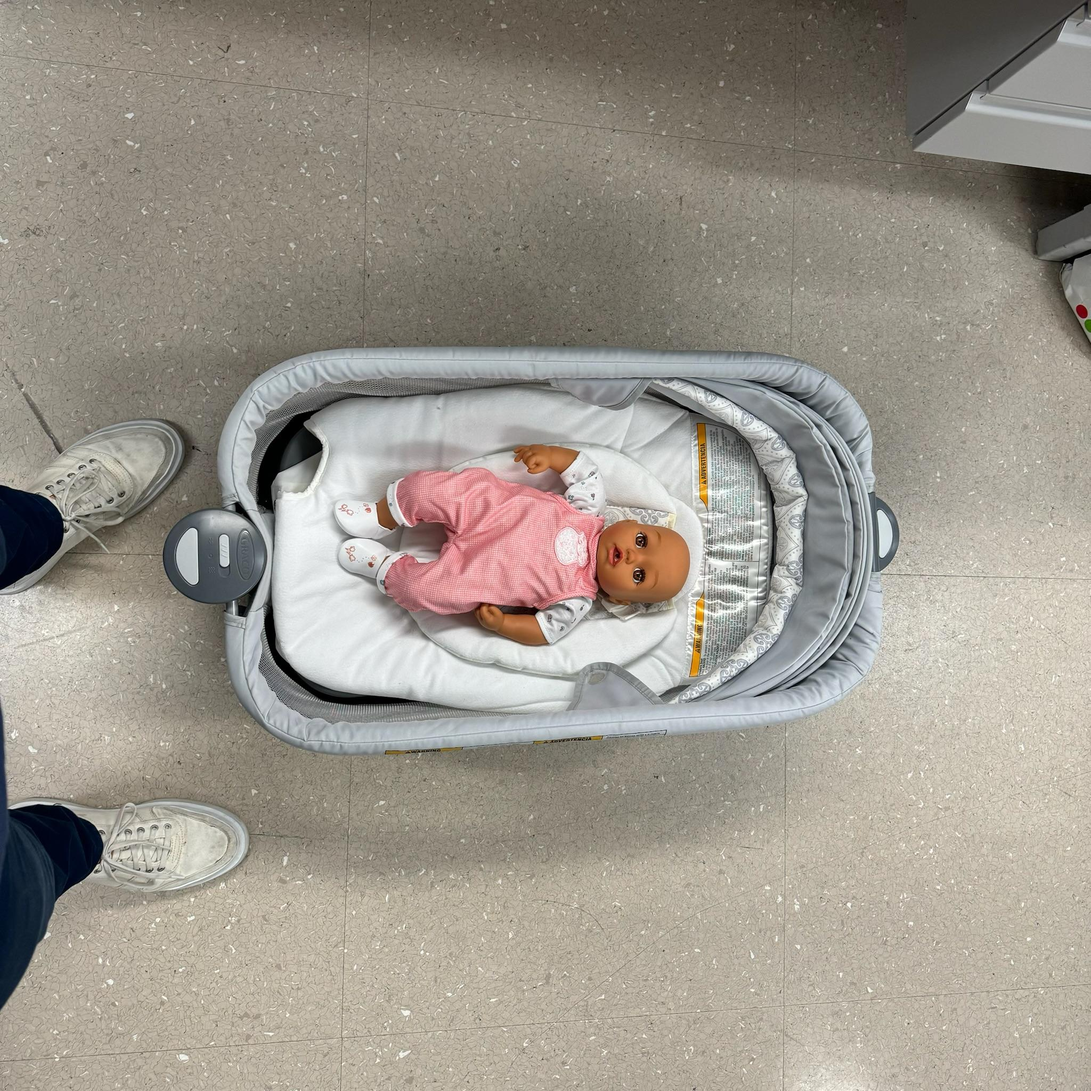baby: (333, 434, 710, 649)
